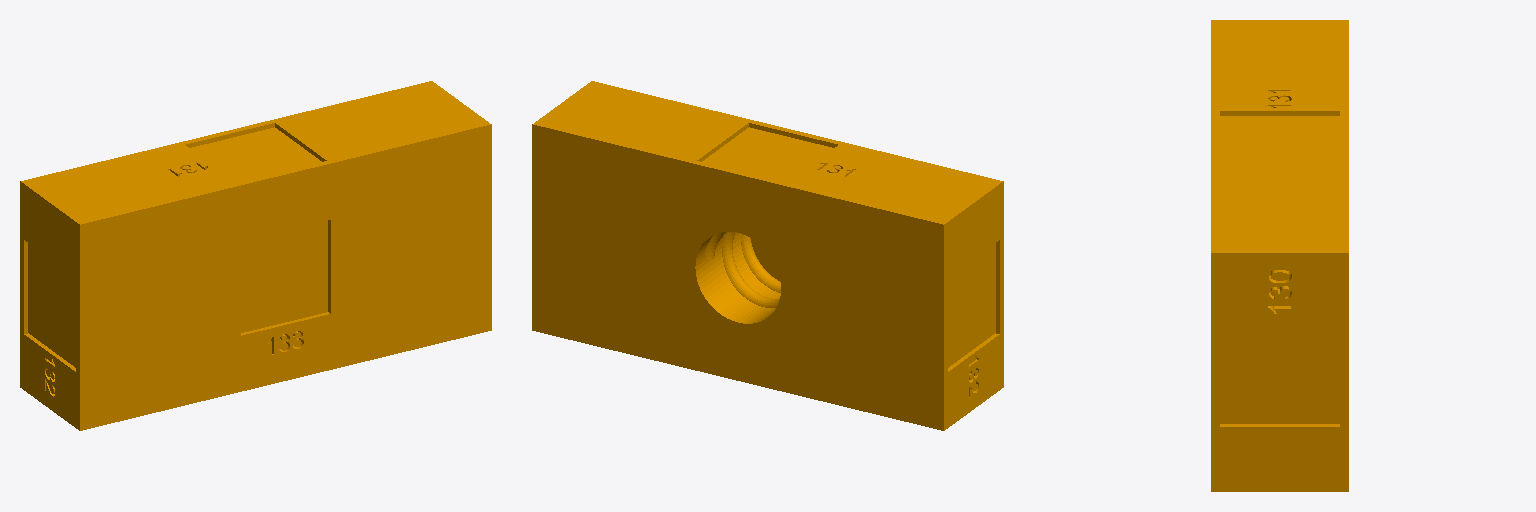
robot.urdf — cabinet_top:
<?xml version="1.0"?>
<robot name="cabinet_top">
    <link name="cabinet_top">
        <visual>
            <geometry>
                <mesh filename="../../mesh/cabinet/cabinet_top.obj" scale="1 1 1"/>
            </geometry>
        </visual>
        <collision>
            <geometry>
                <mesh filename="../../mesh/cabinet/cabinet_top.obj" scale="1 1 1"/>
            </geometry>
            <sdf resolution="512"/>
        </collision>
        <!-- <inertial>
            <mass value="1."/>
            <inertia ixx="0.0001" ixy="0.0" ixz="0.0" iyy="0.0001" iyz="0.0" izz="0.0001"/>
        </inertial> -->
    </link>
</robot>

--- Render facts (derived) ---
Views: 3 orthographic renders of the robot side by side, from view 1: azimuth 30°, elevation 25°; view 2: azimuth 150°, elevation 25°; view 3: azimuth 270°, elevation 25°.
Robot: cabinet_top — 1 links, 0 joints (none); root link cabinet_top; default pose: all joints at 0.
Visible links, largest first — view 1: cabinet_top; view 2: cabinet_top; view 3: cabinet_top.
Boxes of the visible links, x1,y1,x2,y2 form: cabinet_top: (20, 81, 491, 430); cabinet_top: (532, 81, 1003, 430); cabinet_top: (1211, 20, 1348, 491).
Size in the robot's own frame: 0.12 by 0.03 by 0.0575 metres.
1 mesh visuals loaded from 1 distinct referenced files (1 OBJ).